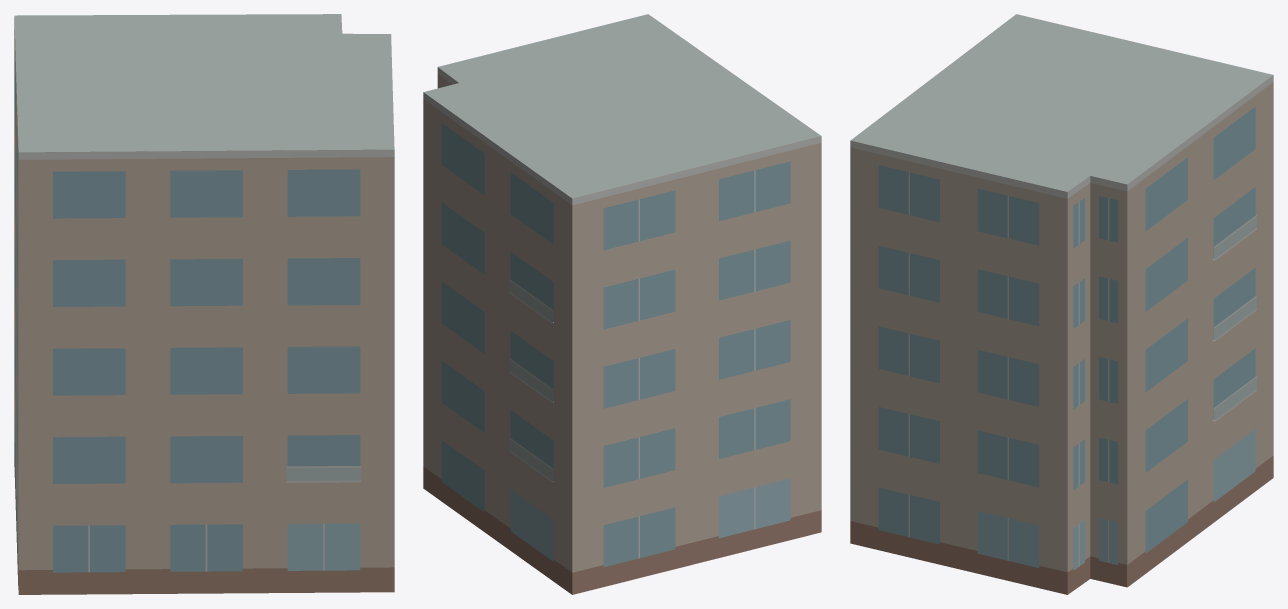
Rendered from survey-upis-32982911.glb.
3 views of the same model, side by side, from view 1: azimuth 30°, elevation 25°; view 2: azimuth 150°, elevation 25°; view 3: azimuth 270°, elevation 25° (orthographic). The views are drawn at different scales.
Visible parts, largest first — view 1: survey-upis-32982911.tmp; view 2: survey-upis-32982911.tmp; view 3: survey-upis-32982911.tmp.
Boxes of the visible parts, x1=… form: survey-upis-32982911.tmp: x1=14, y1=14, x2=394, y2=594; survey-upis-32982911.tmp: x1=423, y1=14, x2=821, y2=594; survey-upis-32982911.tmp: x1=850, y1=14, x2=1273, y2=594.
Size of the model in its own units: 13.61 by 14.35 by 13.67.
